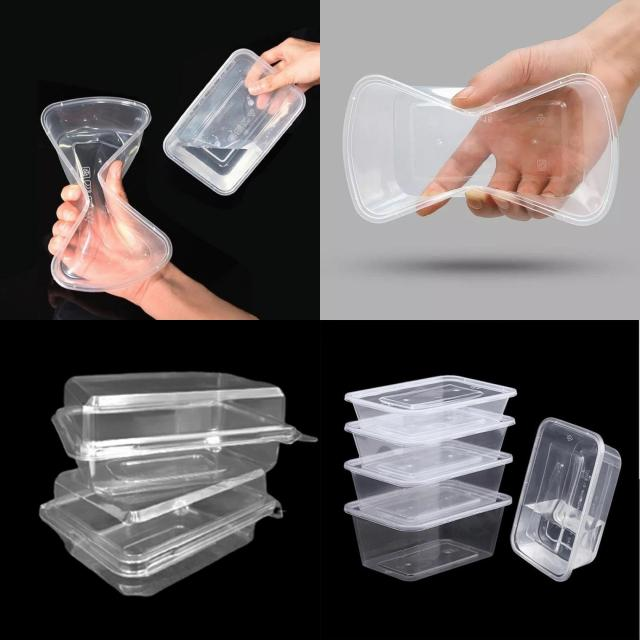Single-Use-Plastic: (344, 74, 619, 225), (52, 372, 315, 509), (41, 469, 281, 596), (41, 98, 172, 291), (164, 49, 305, 195), (511, 418, 621, 581), (345, 480, 511, 581), (345, 441, 512, 530), (345, 408, 515, 486), (345, 375, 516, 446)
